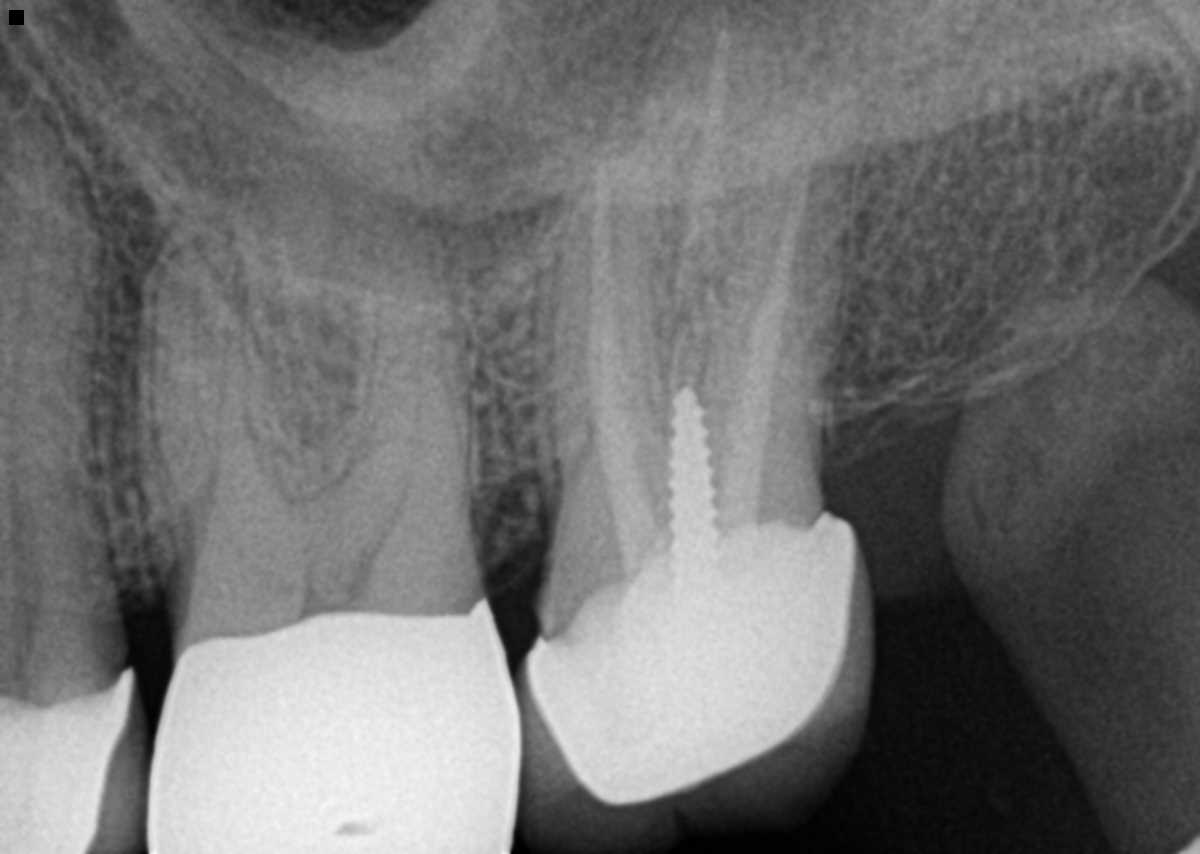Apical Lesion: (416, 120, 556, 276)
Distal Canal: (369, 242, 433, 559)
Distal Root: (299, 209, 483, 597), (693, 112, 857, 457)
Main Root: (0, 103, 119, 679)
Mesial Root: (543, 98, 671, 623), (142, 216, 296, 617)
Palatal Root: (193, 83, 475, 604), (551, 0, 786, 607)
Root Canal Filling: (710, 140, 822, 527), (591, 168, 663, 565), (671, 24, 735, 399)
